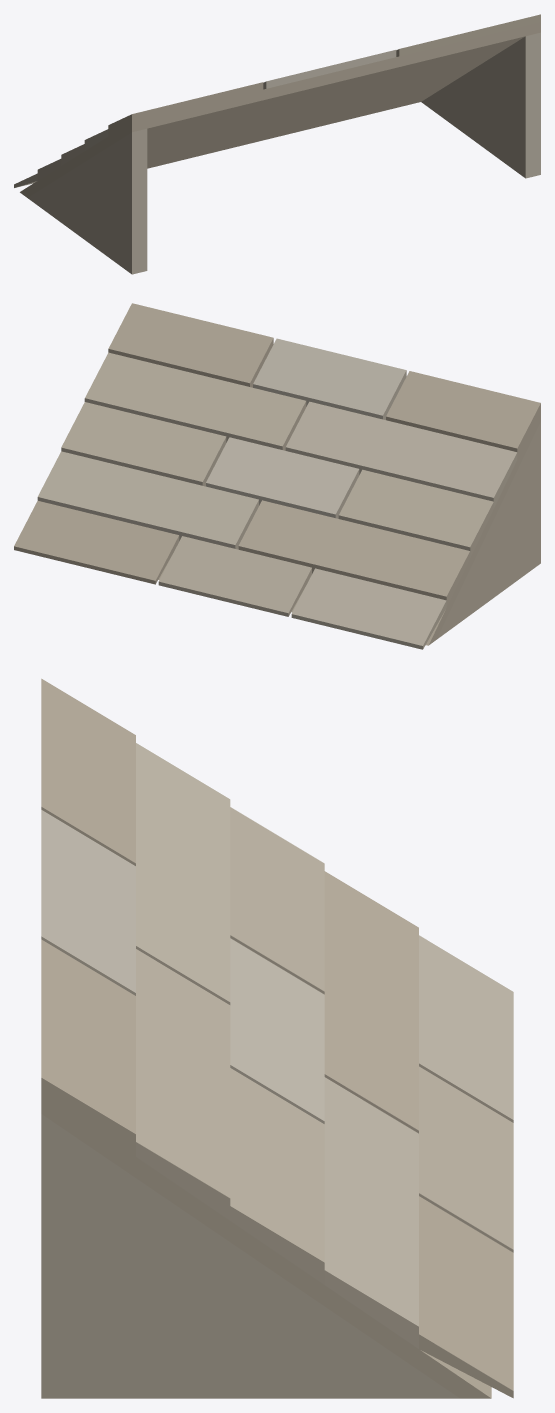
The model's file is SlopedRoof8.glb.
3 renders of one model, top to bottom at view 1: azimuth 30°, elevation 25°; view 2: azimuth 150°, elevation 25°; view 3: azimuth 270°, elevation 25°, orthographic. The views are drawn at different scales.
Visible parts, largest first — view 1: Wood; view 2: Wood; view 3: Wood.
Part boxes in pixels (x1,y1,x2,y2): Wood: [14, 14, 540, 274]; Wood: [14, 303, 540, 649]; Wood: [41, 678, 513, 1398].
Size of what is drawn, in the model's own units: 8 by 3 by 4.
